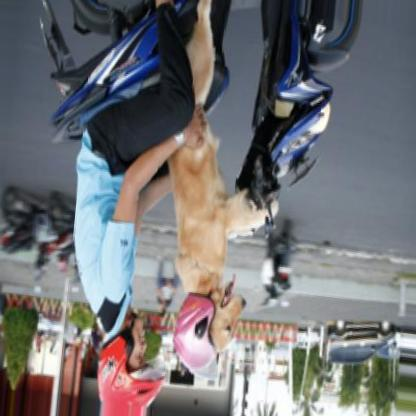with helmet: (92, 314, 170, 416)
